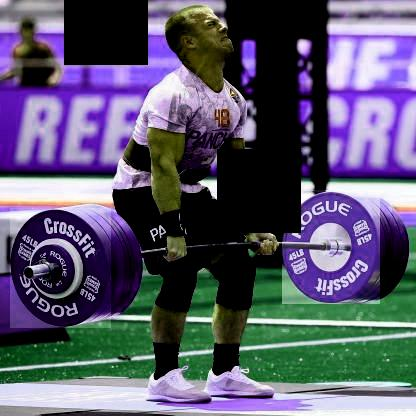barbell: (11, 209, 112, 328), (282, 190, 380, 304)
